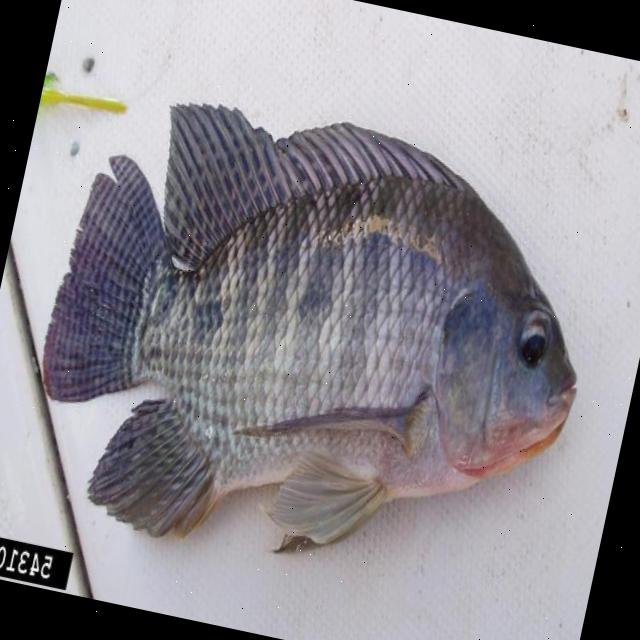ikan: (9, 66, 622, 617)
